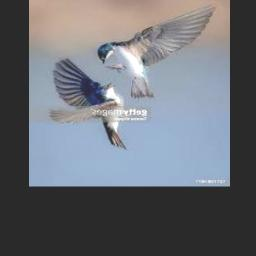Swallow: (97, 3, 217, 98), (50, 58, 126, 148)
